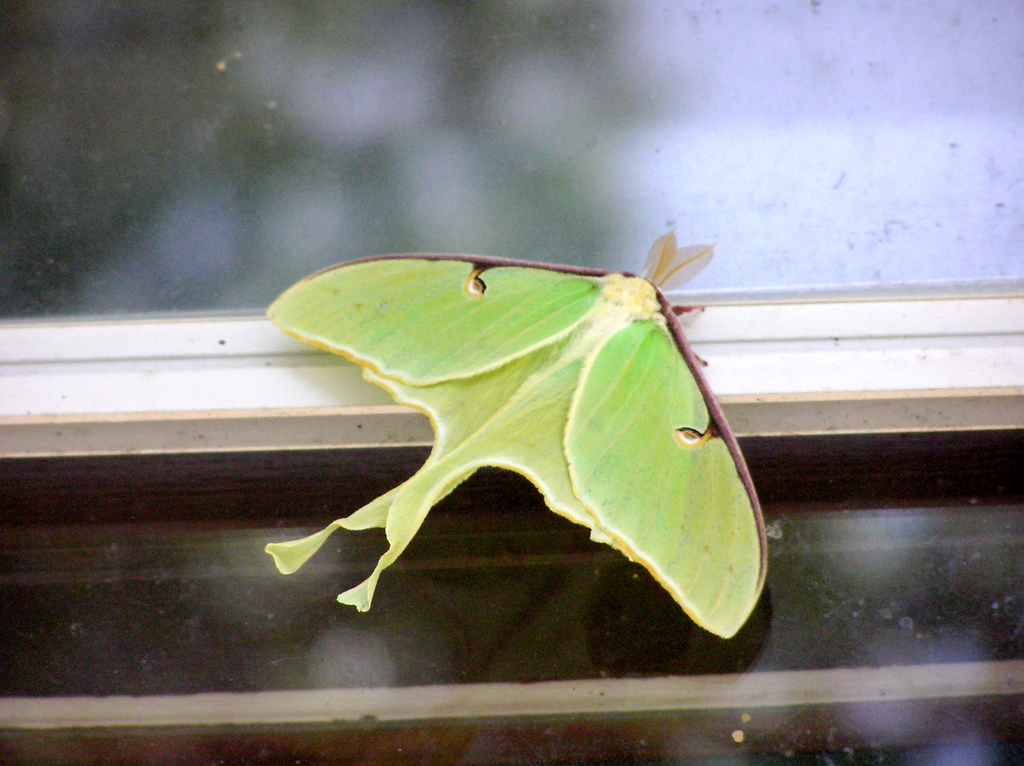Butterfly: (240, 235, 781, 643)
